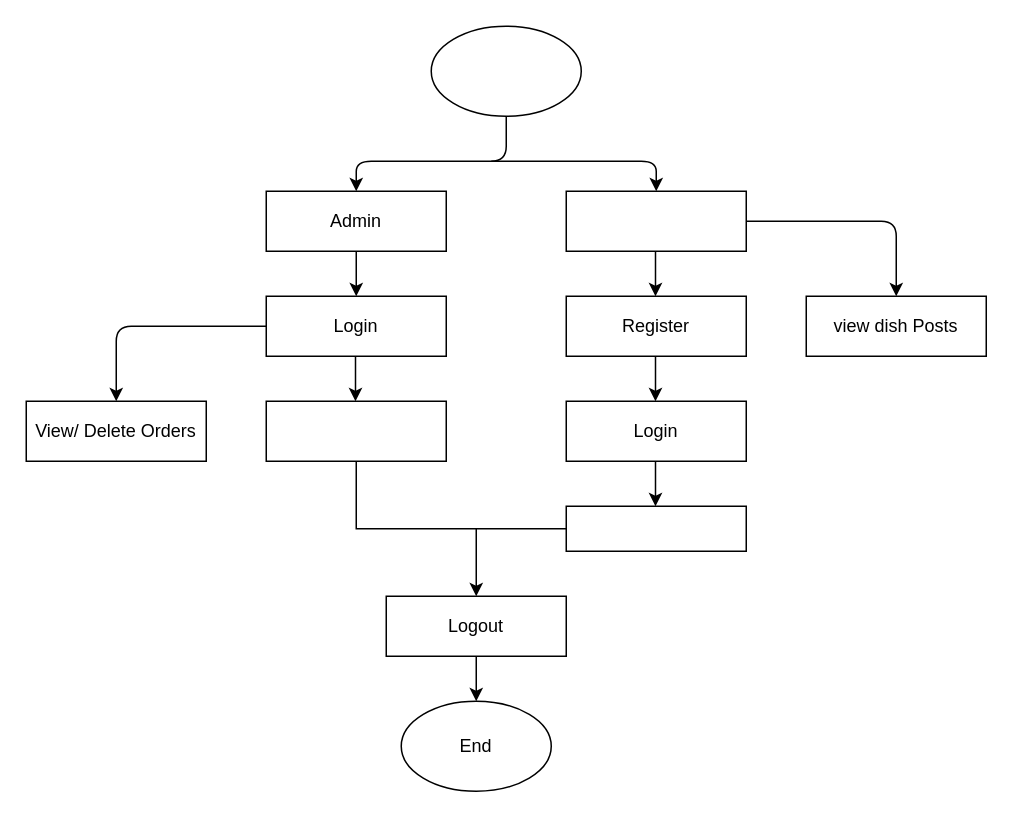
The diagram is 1013 pixels wide and 818 high, and some of its shapes have lost their labels. The centre of each missing label's shape, as x and y in pixels:
"Post / create/update /delete food Item" belongs at (x=355, y=430).
"post an Order" belongs at (x=655, y=528).
"Start" belongs at (x=505, y=70).
"User" belongs at (x=655, y=220).
